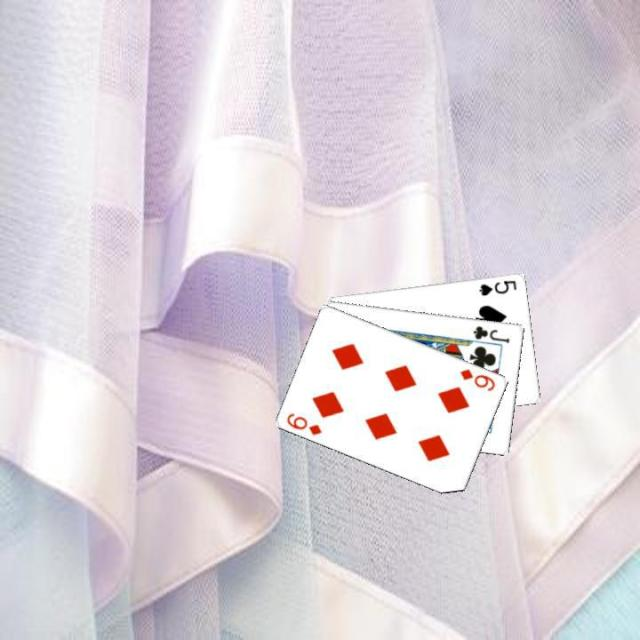5S: (476, 275, 518, 297)
6D: (456, 364, 498, 393), (282, 409, 324, 437)
JC: (470, 322, 512, 344)
